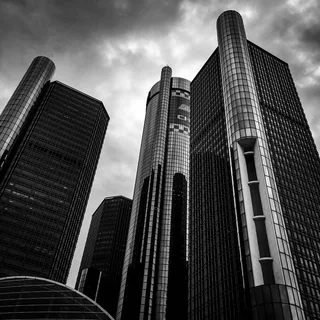high_rise_building: (179, 31, 313, 312), (13, 45, 113, 265), (116, 59, 194, 302)
